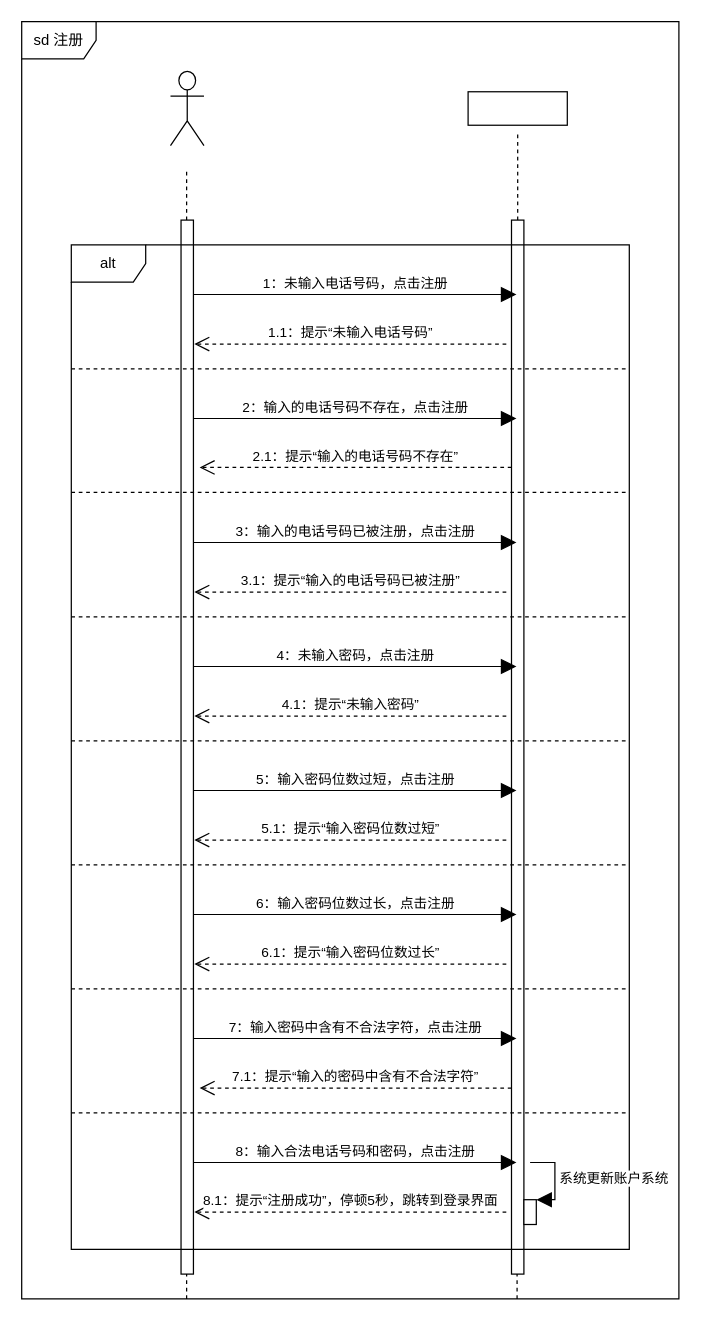
Some shapes in this 701 by 1322 pixel diagram are drawn without their labels. The shapes that lost their labels are listed below. From the top down, each one's box as (x1, y1, x2, y2) in pixels, then its label:
(169, 70, 204, 146): 用户
(467, 91, 567, 125): 系统
